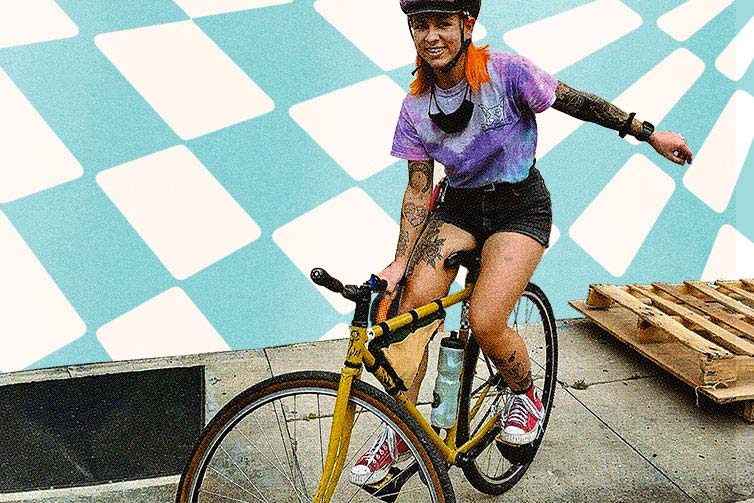helmet: (401, 1, 481, 68)
